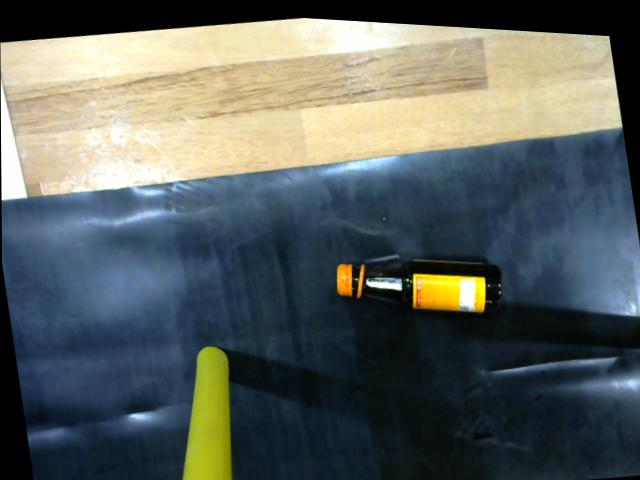glass: (327, 241, 512, 313)
